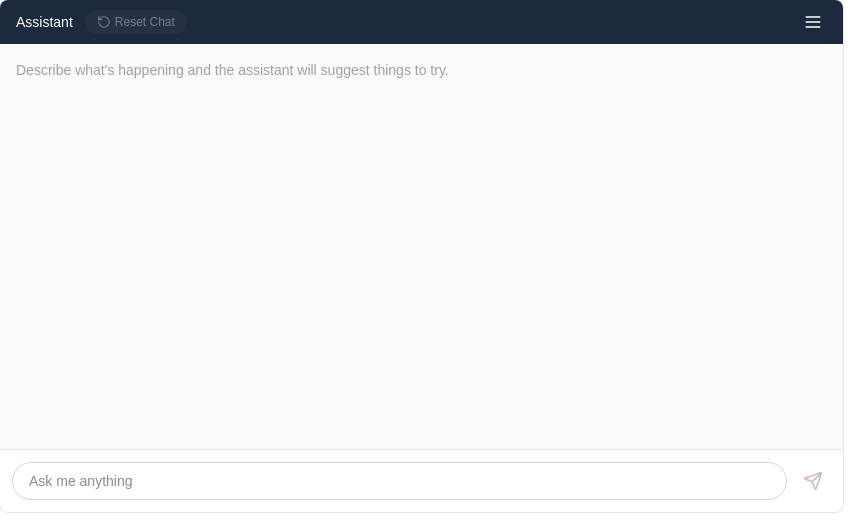
Test case: retries the last situation after a failure
Type "He skipped lunch" into the field named "describe" at (399, 481), box [12,462,787,500]
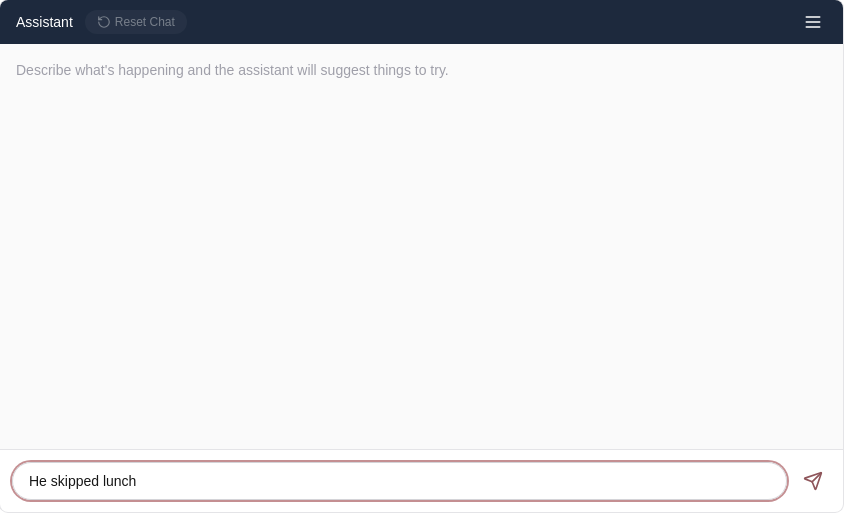
Click the button named "send" at (813, 481), box [795,463,831,499]
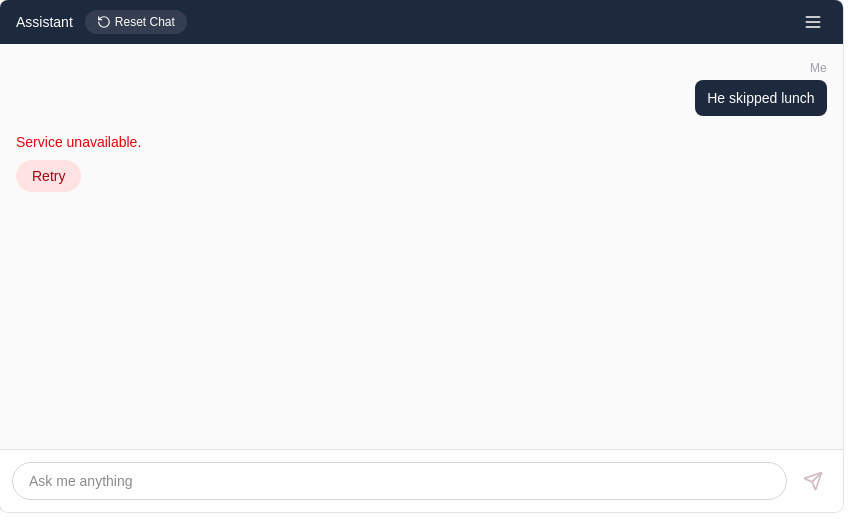
Click the button "Retry" at (49, 176), box [16,160,82,192]
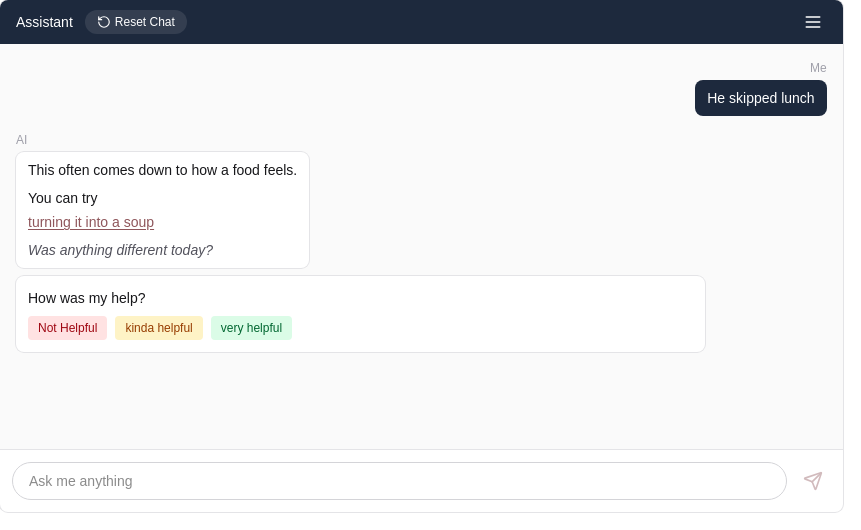
Now the text "This often comes down to how a food feels." is shown, box [28,160,297,180]
